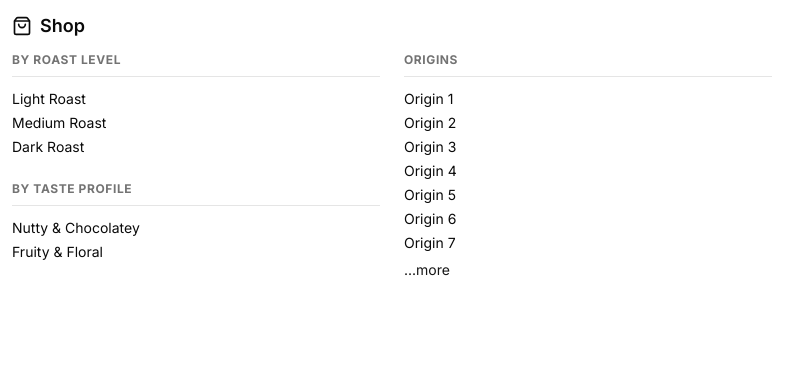
Test: FooterCategories - Integration Tests › CategoryMenuColumns Integration › maintains expand/collapse state across interactions
Click the button with aria-label "Show more categories in ORIGINS" at [427, 270], box left=404, top=260, right=450, bottom=280
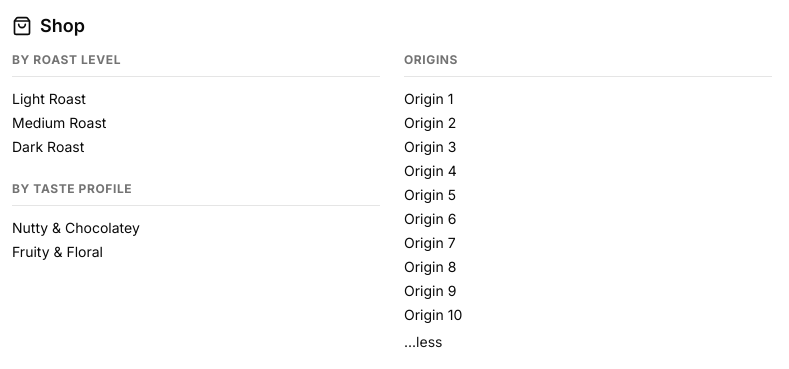
Check: the link "Origin 10" is shown, box left=404, top=306, right=462, bottom=323
Click the button with aria-label "Show less categories in ORIGINS" at [423, 342], box left=404, top=332, right=442, bottom=352
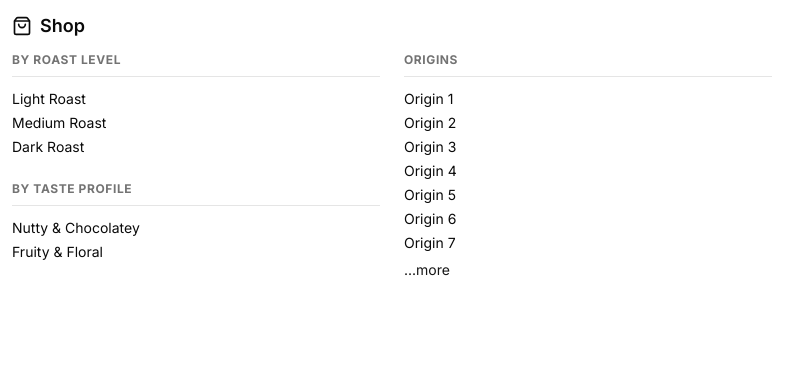
Check: the link "Origin 10" is gone
